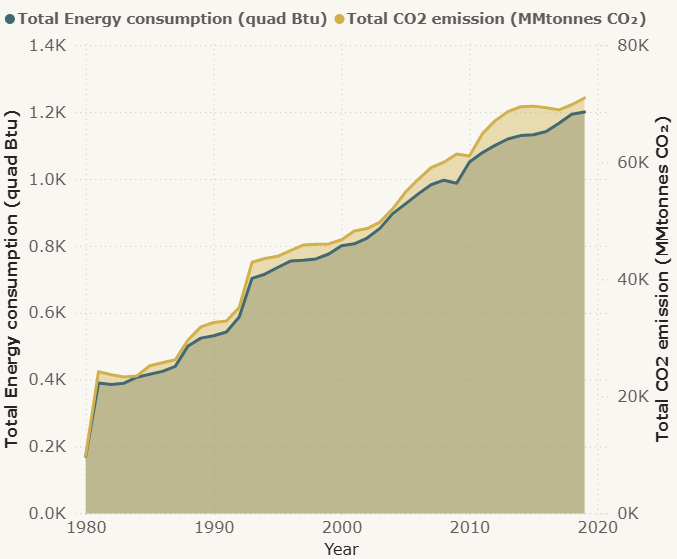

This screenshot's page, from the dashboard's own definition file:
{"tool":"powerbi","page":{"name":"Page 1","canvas":[1280,720],"ordinal":24},"visuals":[{"type":"image","box":[0,0,1279.8,720.2],"z":0}]}

Visuals, with their boxes on the page's 1280x720 design canvas (x1, y1, x2, y2). These are canvas units, not pixel positions in the 677x559 screenshot, which may show the page scaled, cropped or inside an application window:
image: (0,0,1280,720)
